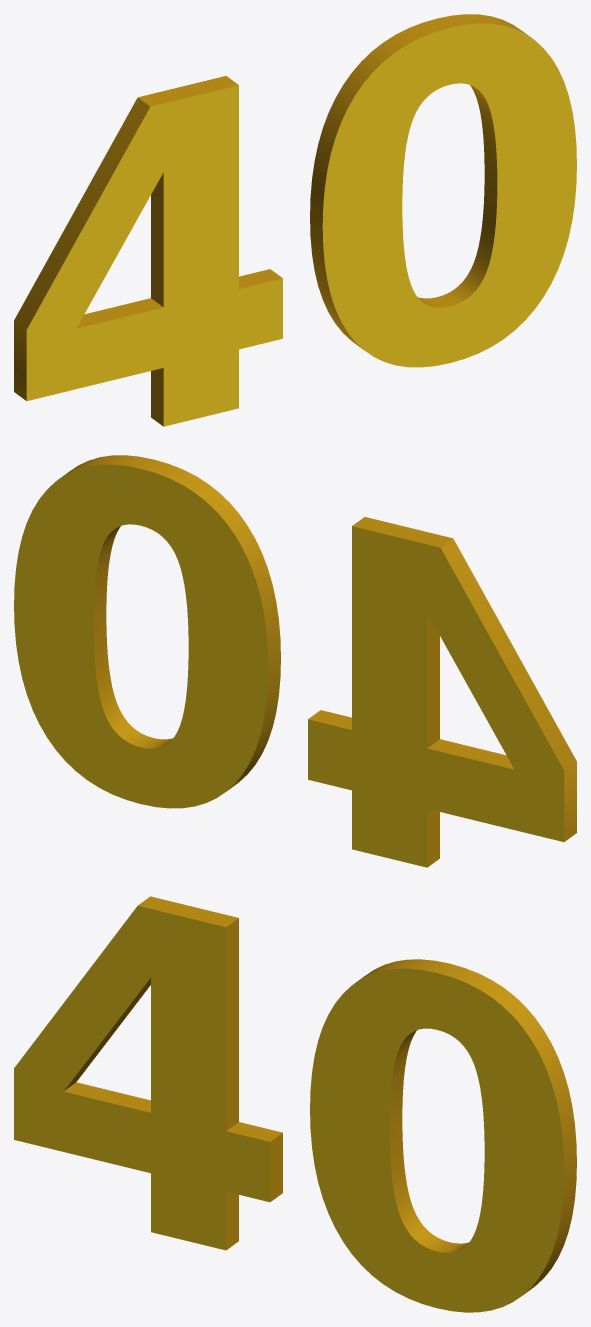
The model's file is Pts40.obj.
3 views of the same model, one above another, from view 1: azimuth 30°, elevation 25°; view 2: azimuth 150°, elevation 25°; view 3: azimuth 330°, elevation 25° (orthographic).
Visible parts, largest first — view 1: Pts40; view 2: Pts40; view 3: Pts40.
Part boxes in pixels (bbox=[...]): Pts40: bbox=[14, 14, 576, 426]; Pts40: bbox=[14, 455, 576, 867]; Pts40: bbox=[14, 896, 576, 1312].
Bounding box in the file's own units: 0.9977 × 0.581 × 0.04.
Materials: 1 (1 with a texture image).
